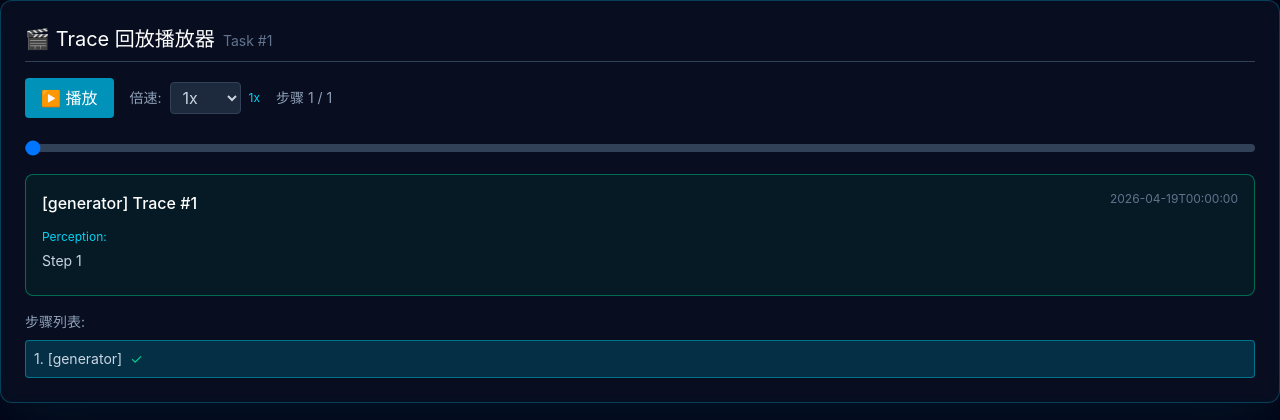
Test case: TracePlayback › play_pause_toggle_works
This screenshot has width=1280, height=420.
Click the button "▶️ 播放" at (69, 98), box [25,78,114,118]
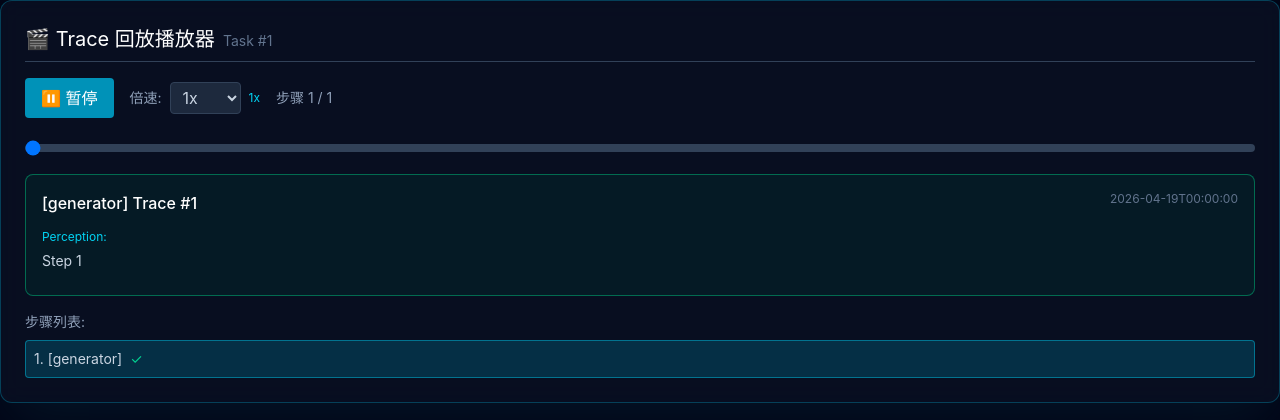
Check: the button "⏸️ 暂停" is shown, box [25,78,114,118]
